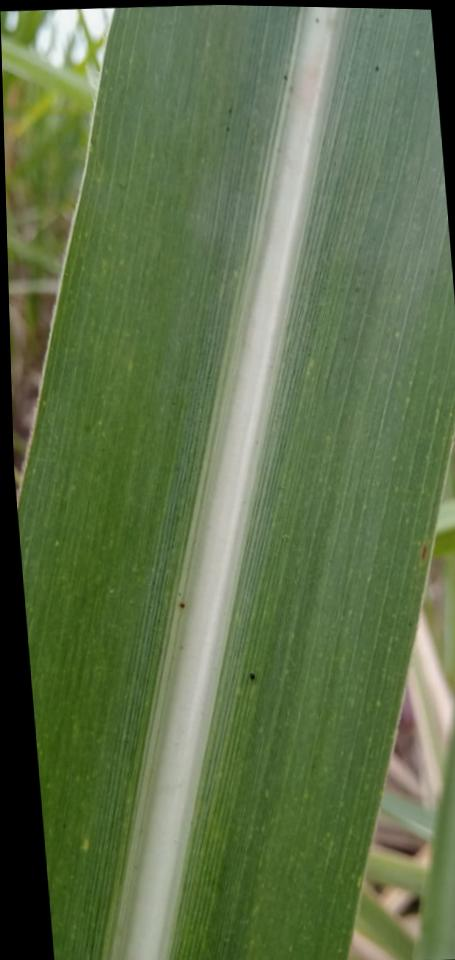Healthy: (17, 5, 455, 960)
